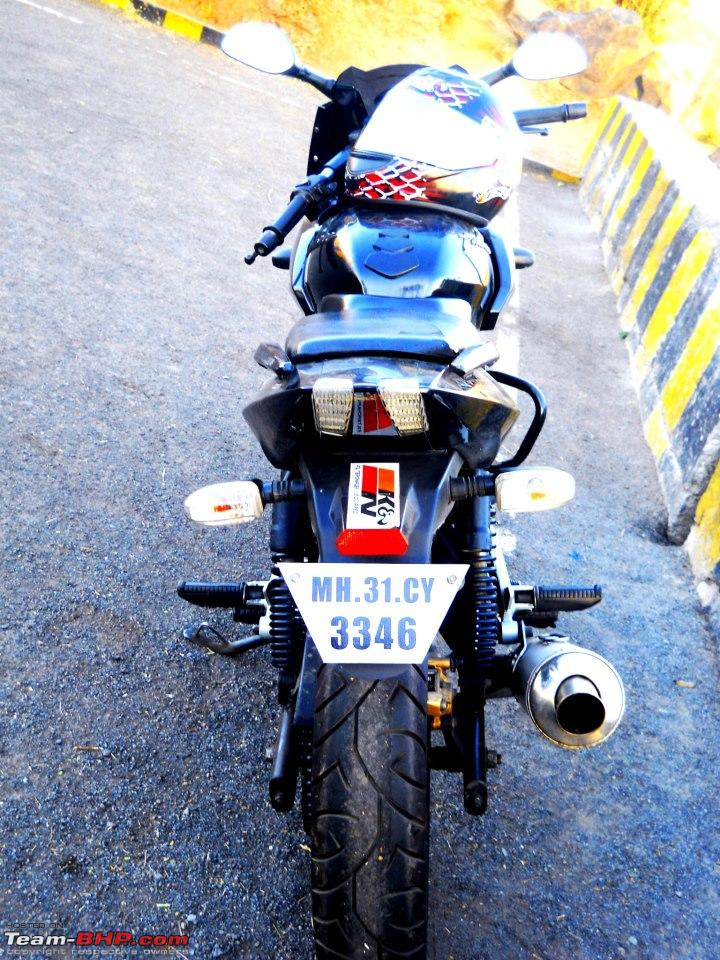bike: (160, 11, 631, 960)
number_plate: (277, 565, 450, 660)
